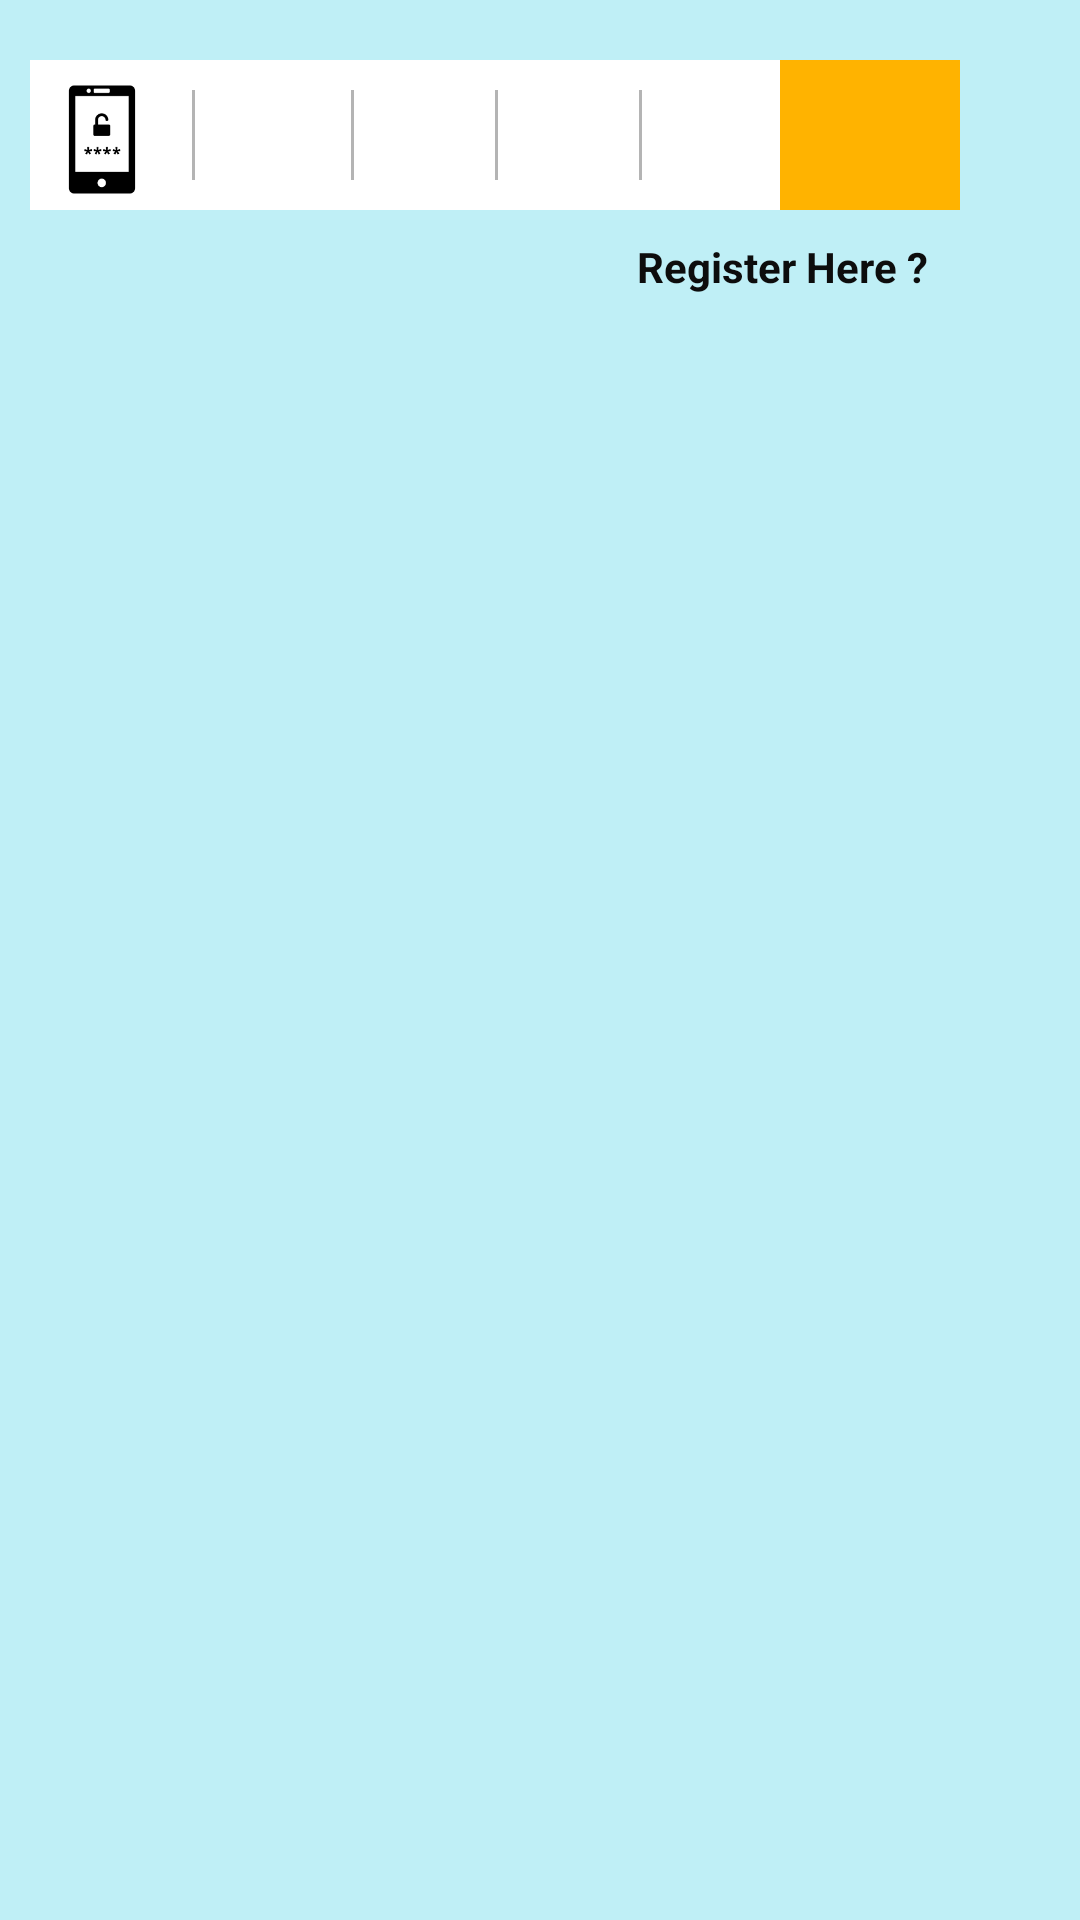

Named icons in this screenshot (1080px x 1920px) and their centers, (x,y):
phoneotp: (101,139)
